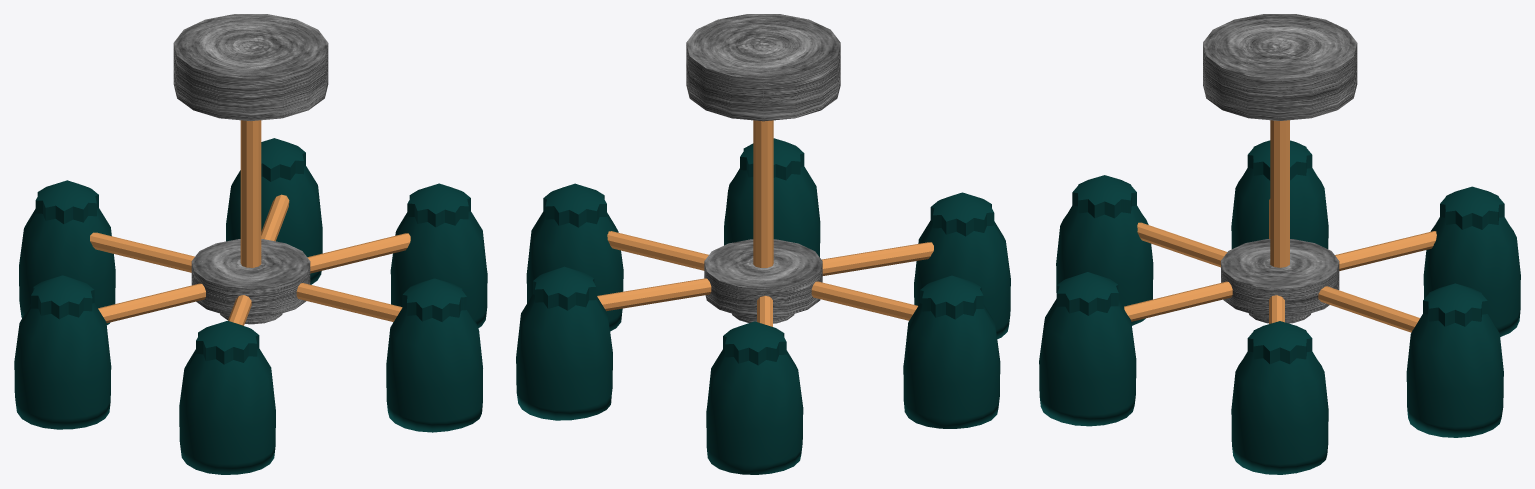
File: Living_CeilingLight.fbx
The picture shows the model from 3 angles, left to right: view 1: azimuth 30°, elevation 25°; view 2: azimuth 150°, elevation 25°; view 3: azimuth 270°, elevation 25°; orthographic projection.
Parts seen in each view (by area): view 1: Casing, Circles, Rails; view 2: Casing, Circles, Rails; view 3: Casing, Circles, Rails.
Boxes of the visible parts, bbox=[...] form: Casing: bbox=[14, 138, 487, 474]; Circles: bbox=[173, 14, 328, 324]; Rails: bbox=[90, 120, 410, 325]; Casing: bbox=[516, 138, 1010, 474]; Circles: bbox=[686, 14, 840, 323]; Rails: bbox=[597, 120, 933, 326]; Casing: bbox=[1039, 140, 1520, 474]; Circles: bbox=[1203, 14, 1357, 323]; Rails: bbox=[1124, 120, 1436, 332].
Bounding box in the file's own units: 69.2 × 45.65 × 62.71.
4 materials, 3 textured.
